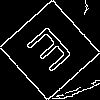E: (25, 25, 81, 81)
